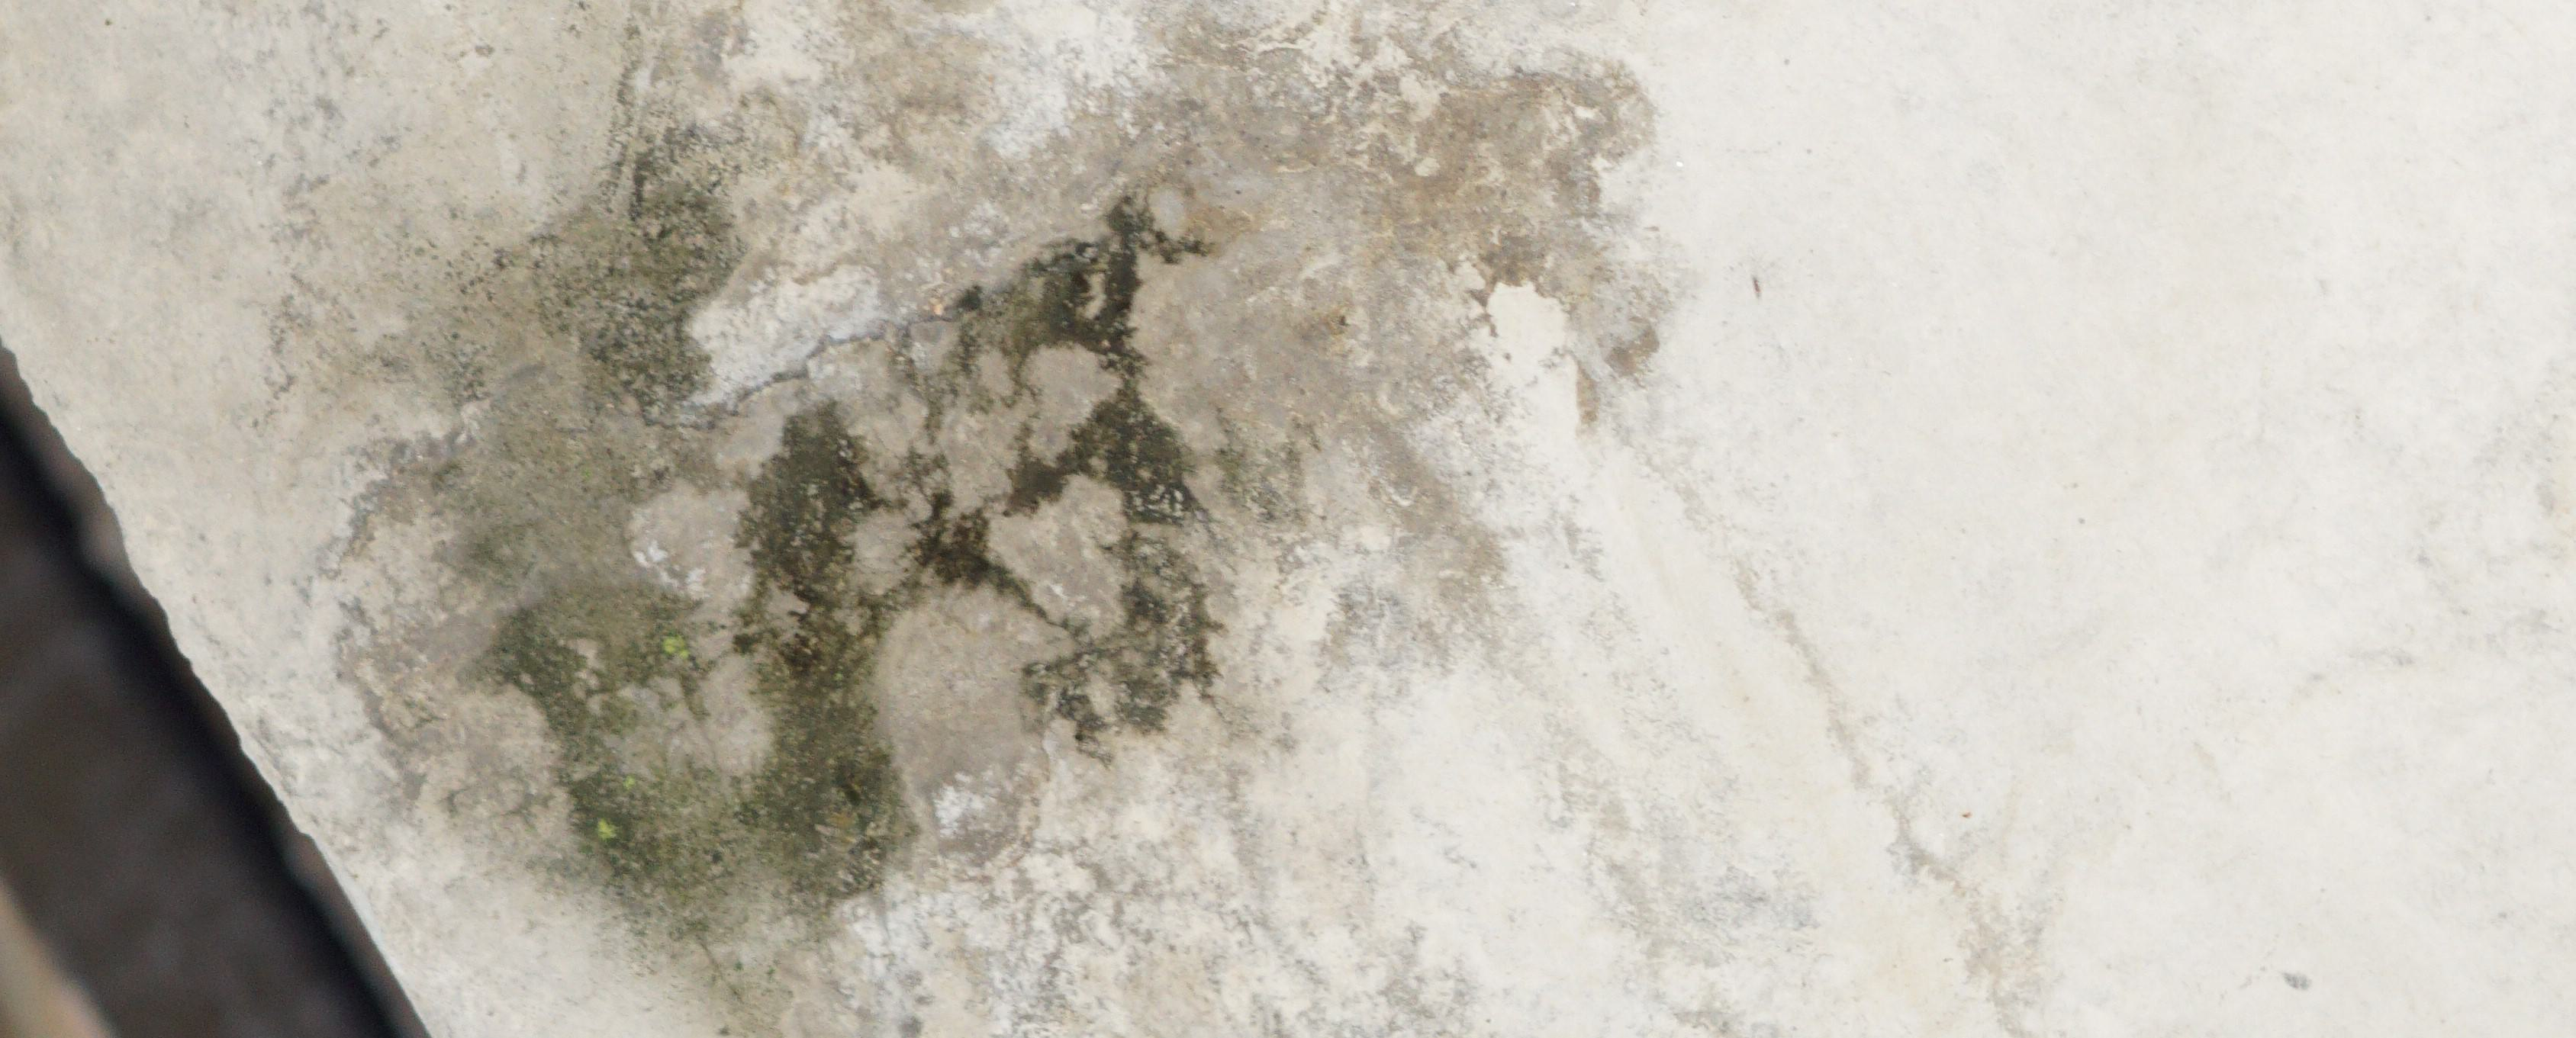Corrosion: (292, 0, 1692, 1038)
